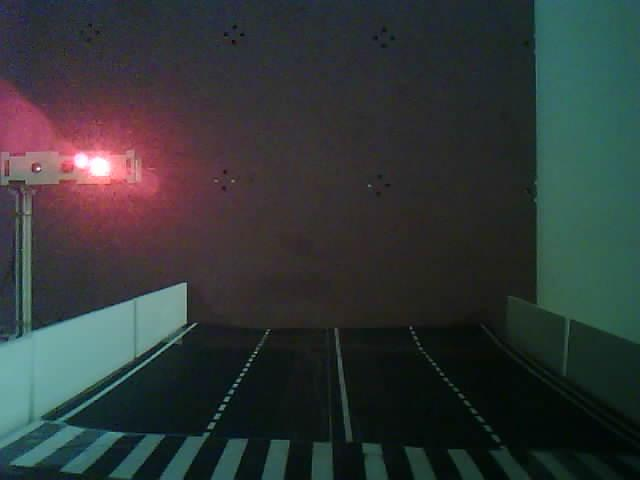crosswalk: (63, 414, 328, 480)
red: (41, 135, 159, 257)
